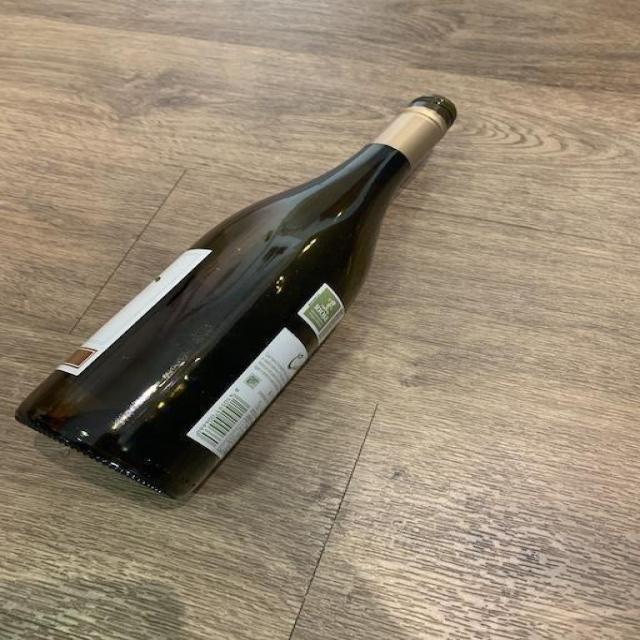bottle-glass: (18, 94, 456, 504)
